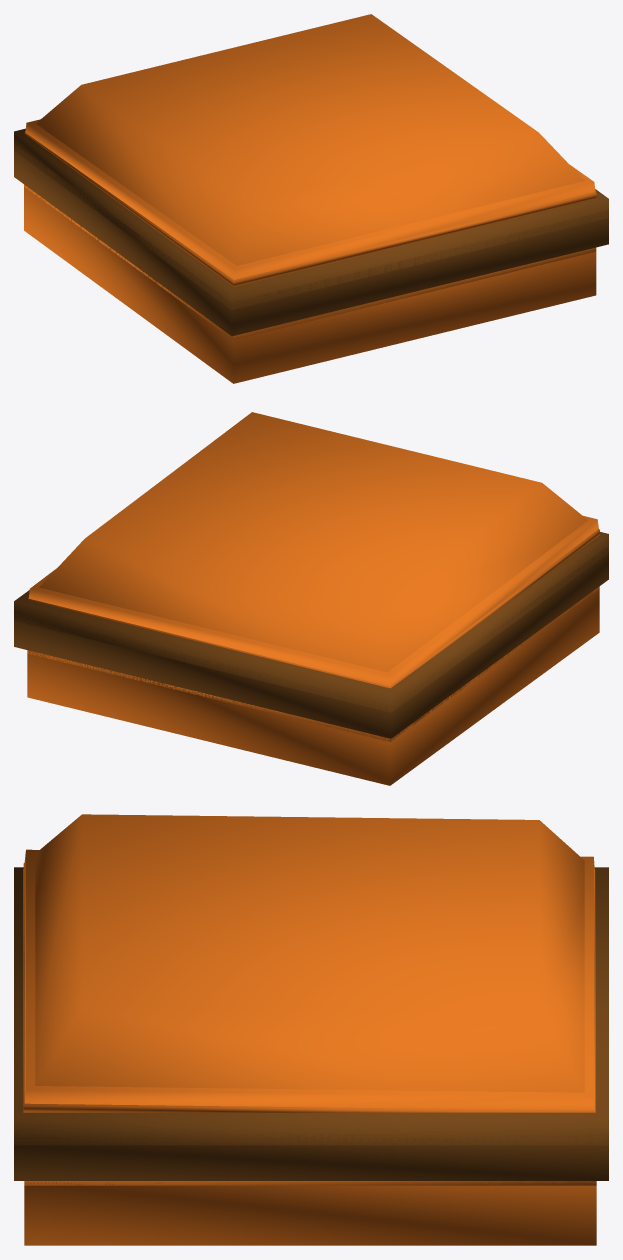
File: hamburger.glb
3 renders of one model, top to bottom at view 1: azimuth 30°, elevation 25°; view 2: azimuth 150°, elevation 25°; view 3: azimuth 270°, elevation 25°, orthographic. The views are drawn at different scales.
Parts seen in each view (by area): view 1: Cube.002, Cube.001, Cube; view 2: Cube.002, Cube.001, Cube; view 3: Cube.002, Cube.001, Cube.
Part boxes in pixels (x1,y1,x2,y2): Cube.002: [24, 14, 596, 286]; Cube.001: [14, 128, 608, 336]; Cube: [24, 184, 596, 383]; Cube.002: [28, 412, 599, 688]; Cube.001: [14, 532, 608, 738]; Cube: [27, 586, 599, 785]; Cube.002: [23, 814, 595, 1112]; Cube.001: [14, 867, 608, 1180]; Cube: [24, 1181, 596, 1245].
Size of the model in its own units: 10.44 by 4.13 by 10.44.
